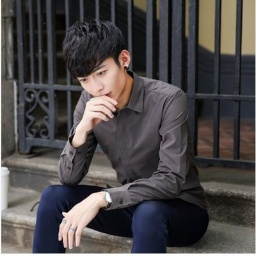face: (61, 17, 132, 104)
